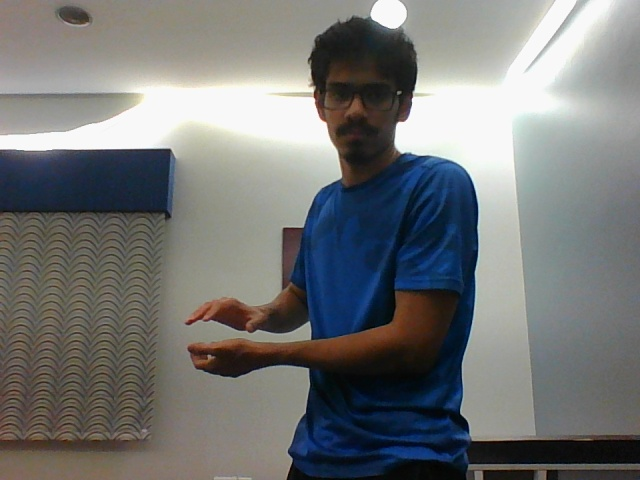charge: (172, 291, 282, 391)
